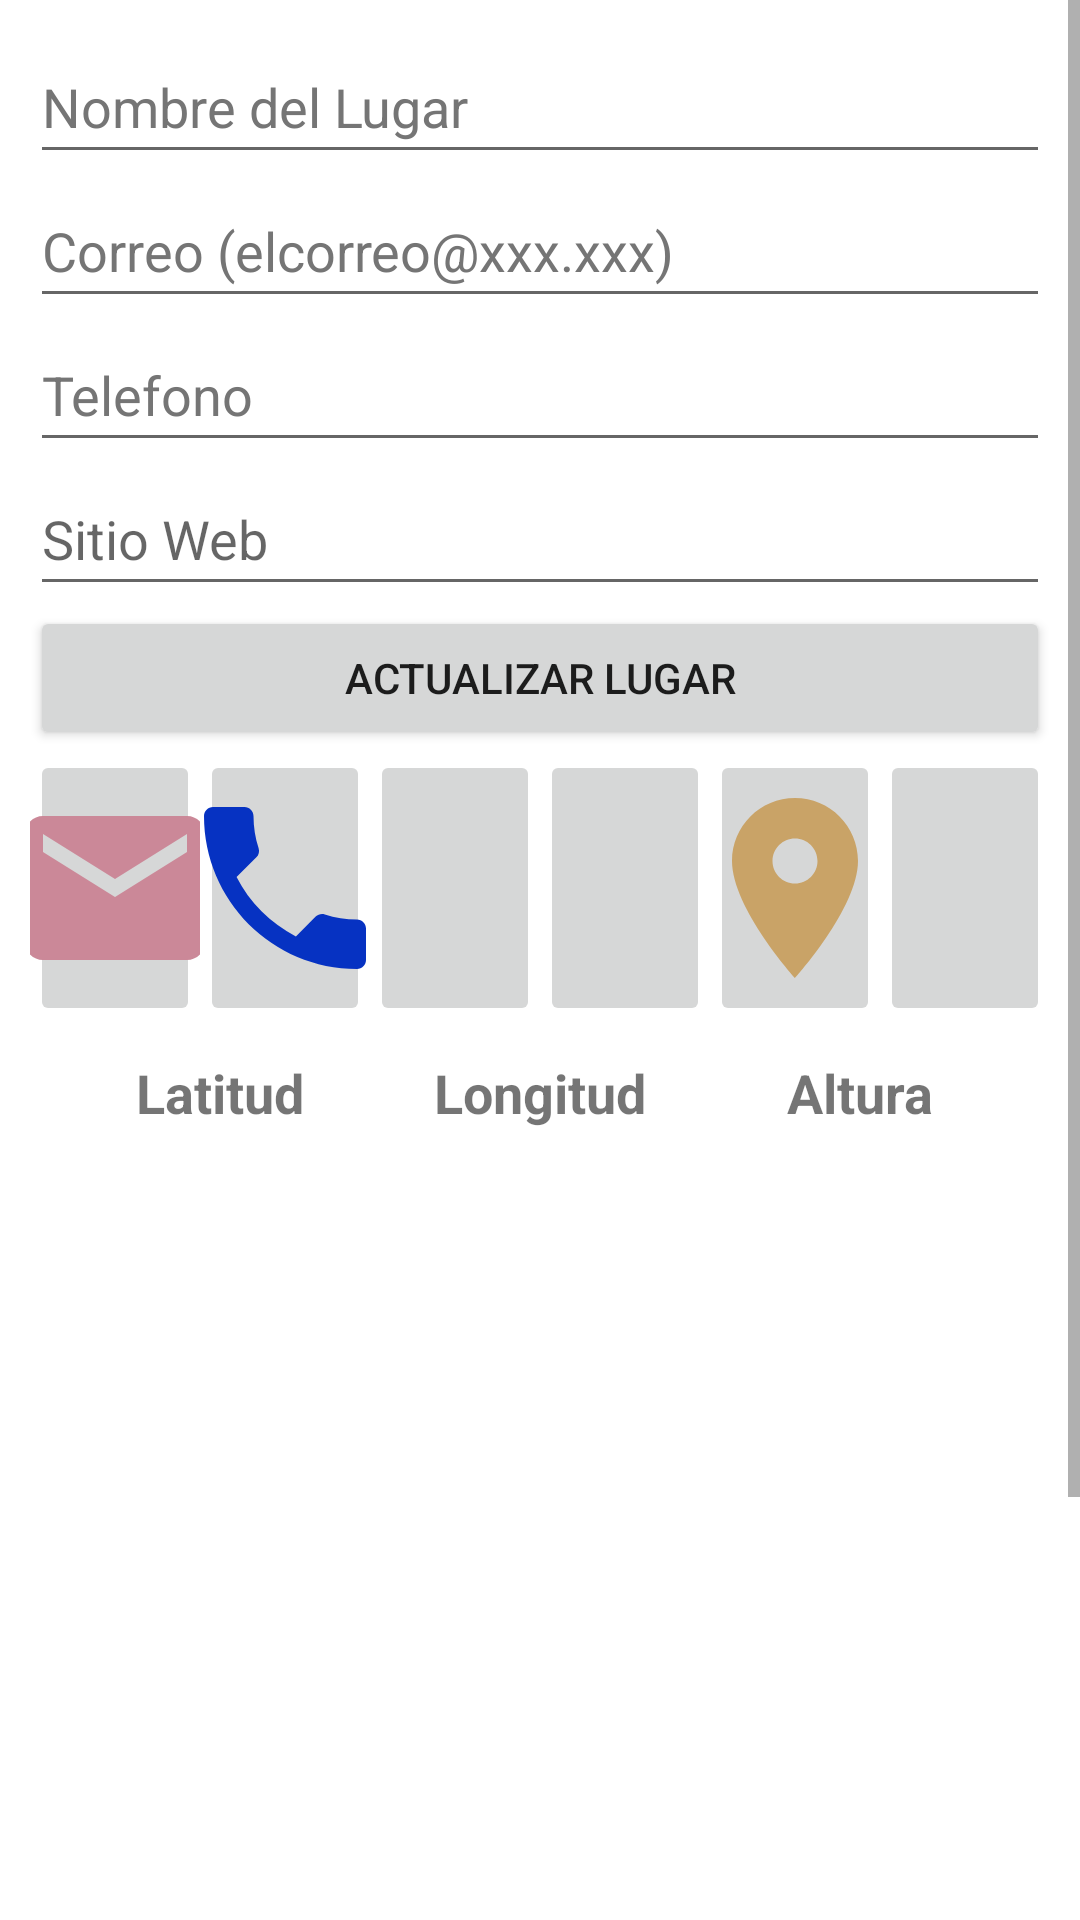

Where icons sit on this 1080x1920 app screen, as (x1, y1, x2, y2):
Enviar correo electrónico: (30, 768, 200, 1008)
location: (722, 768, 868, 1008)
phone: (204, 768, 366, 1008)
